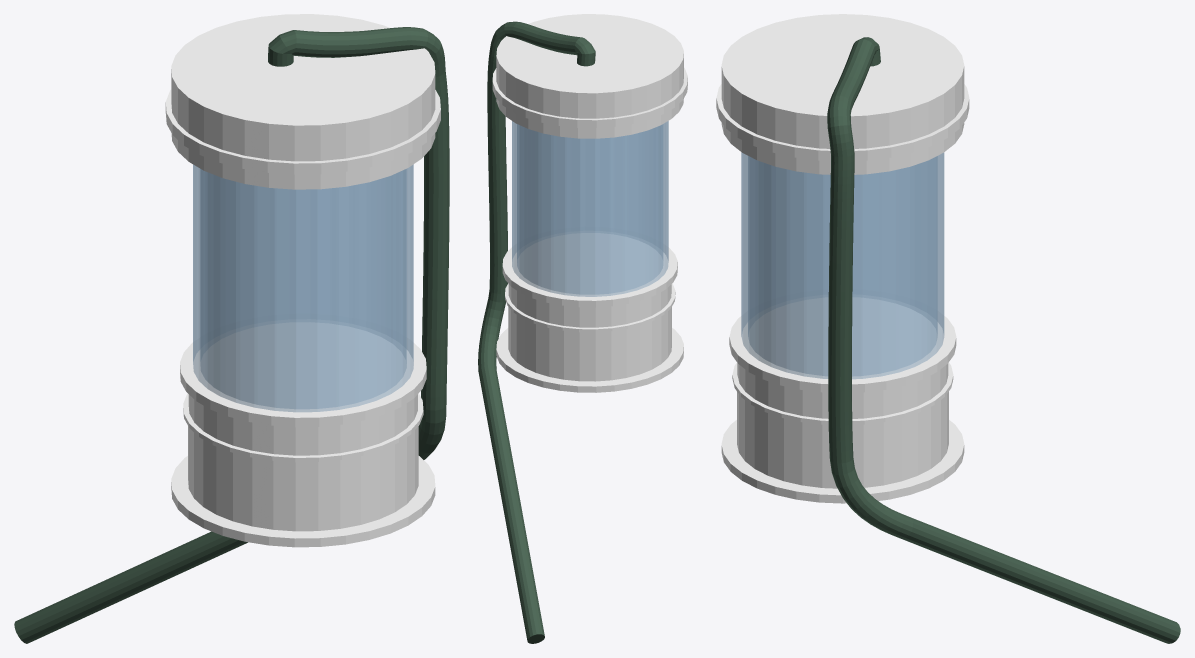
The model's file is cuve.fbx.
3 views of the same model, side by side, from view 1: azimuth 30°, elevation 25°; view 2: azimuth 150°, elevation 25°; view 3: azimuth 270°, elevation 25° (orthographic). The views are drawn at different scales.
Visible parts, largest first — view 1: Circle, Cylinder; view 2: Circle, Cylinder; view 3: Circle, Cylinder.
Boxes of the visible parts, x1,y1,x2,y2 form: Circle: (165, 14, 440, 547); Cylinder: (14, 27, 449, 643); Circle: (492, 14, 687, 392); Cylinder: (478, 21, 595, 643); Circle: (716, 14, 969, 503); Cylinder: (827, 37, 1180, 643).
Bounding box in the file's own units: 230 × 590 × 382.
